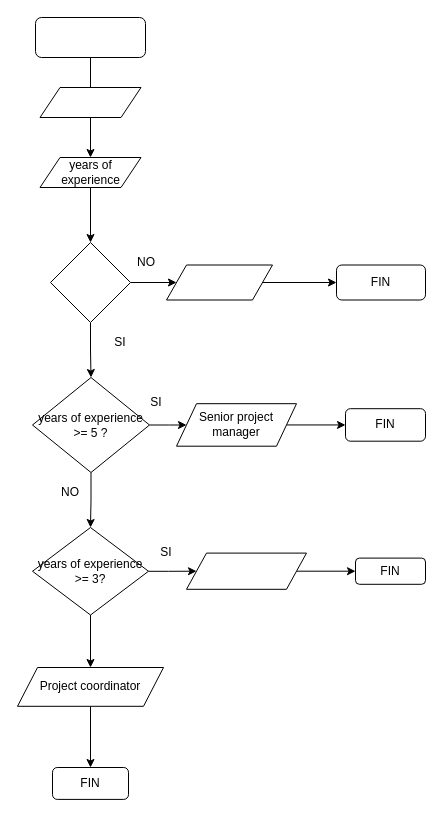
The diagram is 443 pixels wide and 817 high, and some of its shapes have lost their labels. Each missing label, with the centre of its shape:
"age" belongs at point 90,102.
"age>=18 ?" belongs at point 90,282.
"INICIO" belongs at point 90,37.
"Not eligible" belongs at point 219,282.
"Project manager" belongs at point 246,570.
